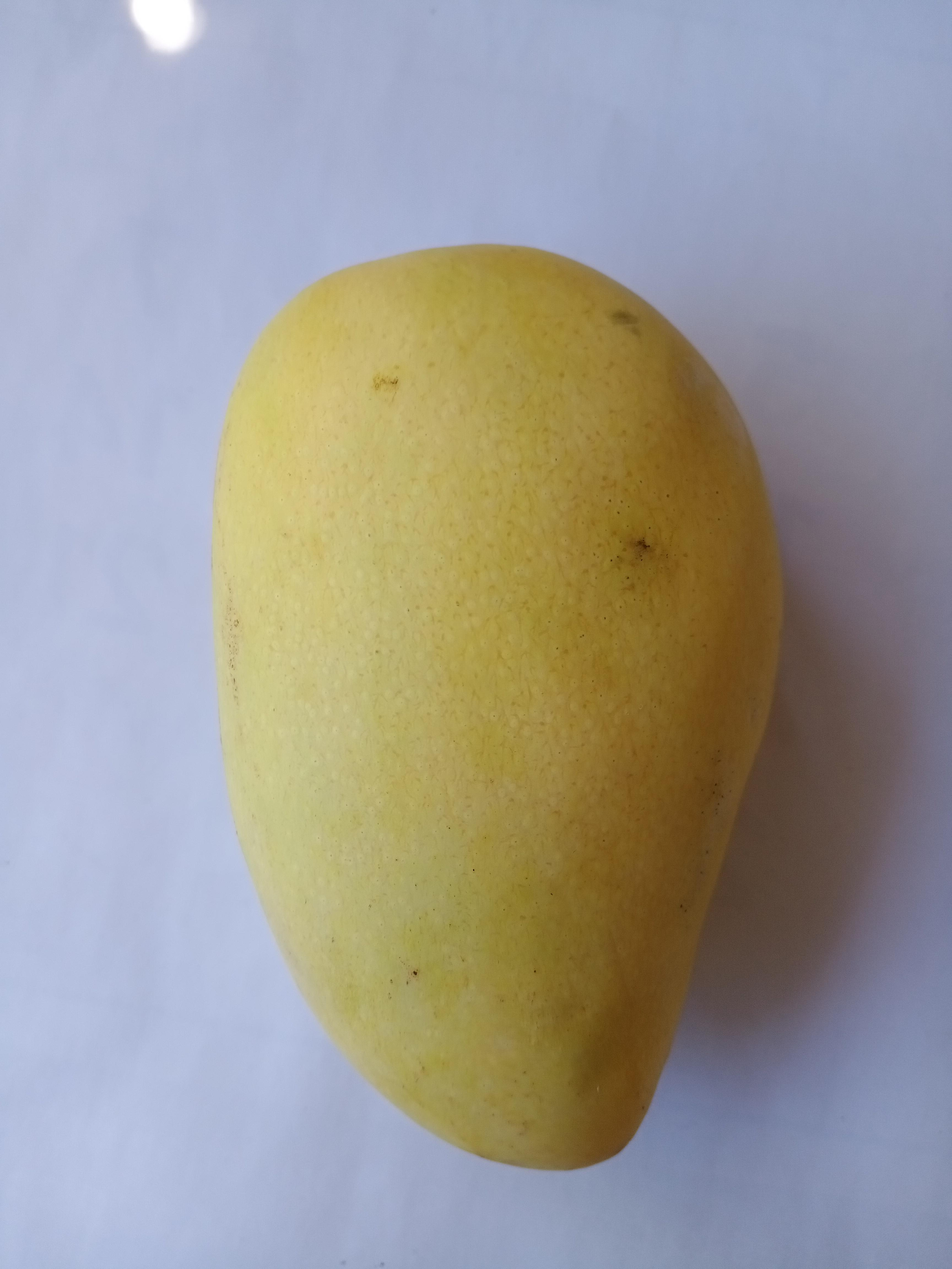Mango Ripe: (165, 193, 826, 1220)
